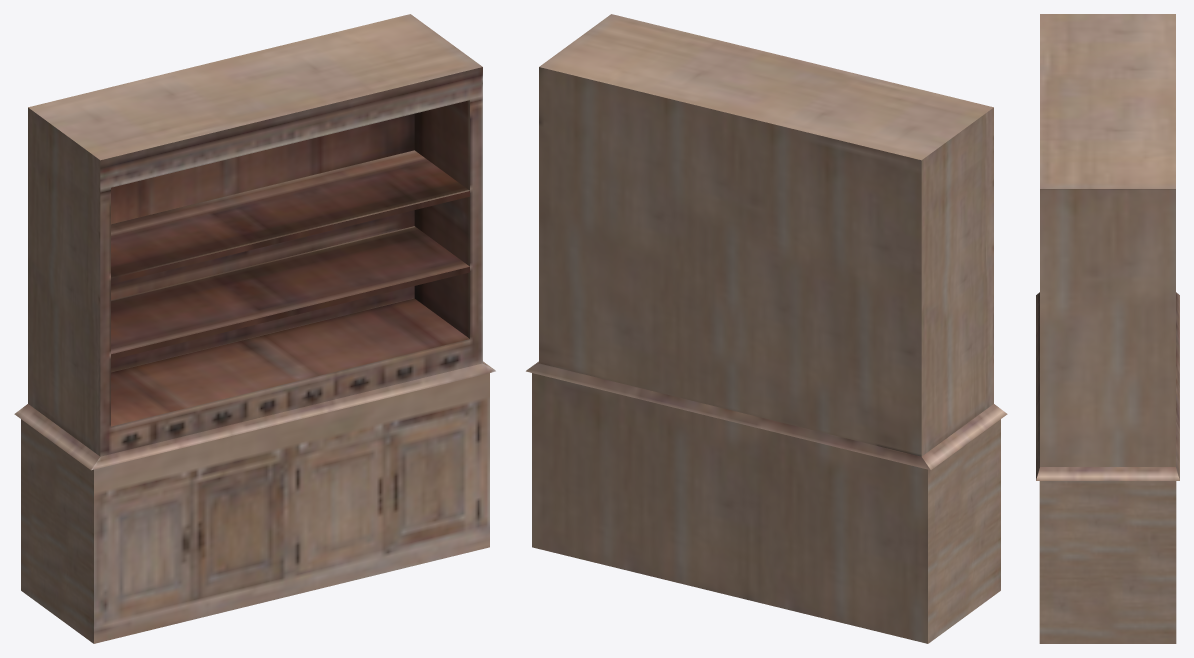
The model's file is Fitment_02-col.glb.
3 renders of one model, left to right at view 1: azimuth 30°, elevation 25°; view 2: azimuth 150°, elevation 25°; view 3: azimuth 270°, elevation 25°, orthographic. The views are drawn at different scales.
Visible parts, largest first — view 1: Fitment_02-col; view 2: Fitment_02-col; view 3: Fitment_02-col.
Part boxes in pixels (bbox=[...]): Fitment_02-col: bbox=[14, 14, 495, 643]; Fitment_02-col: bbox=[526, 14, 1007, 643]; Fitment_02-col: bbox=[1036, 14, 1179, 643].
Bounding box in the file's own units: 1.7 × 1.93 × 0.5579.
Materials: 1 (1 with a texture image).
